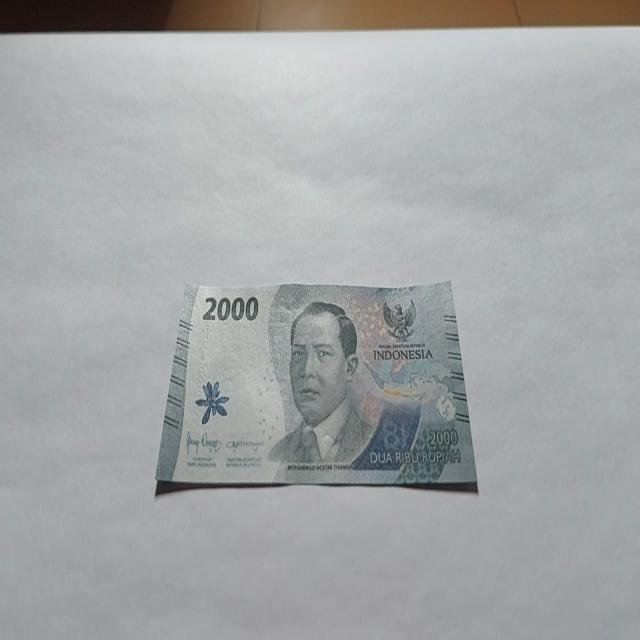dua ribu rupiah: (154, 278, 478, 495)
